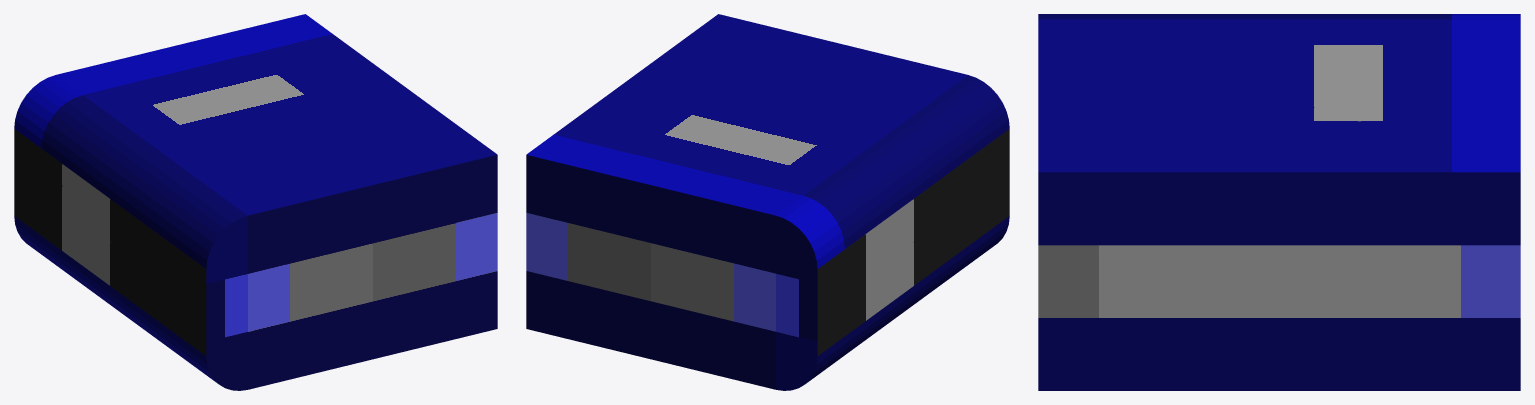
The model's file is book_642x25.obj.
3 views of the same model, side by side, from view 1: azimuth 30°, elevation 25°; view 2: azimuth 150°, elevation 25°; view 3: azimuth 270°, elevation 25° (orthographic). The views are drawn at different scales.
Visible parts, largest first — view 1: Cube.001; view 2: Cube.001; view 3: Cube.001.
Part boxes in pixels (box(x1,y1,x2,y2)): Cube.001: box(14, 14, 497, 390); Cube.001: box(526, 14, 1009, 390); Cube.001: box(1038, 14, 1520, 390).
Size of the model in its own units: 0.875 by 0.5 by 1.
